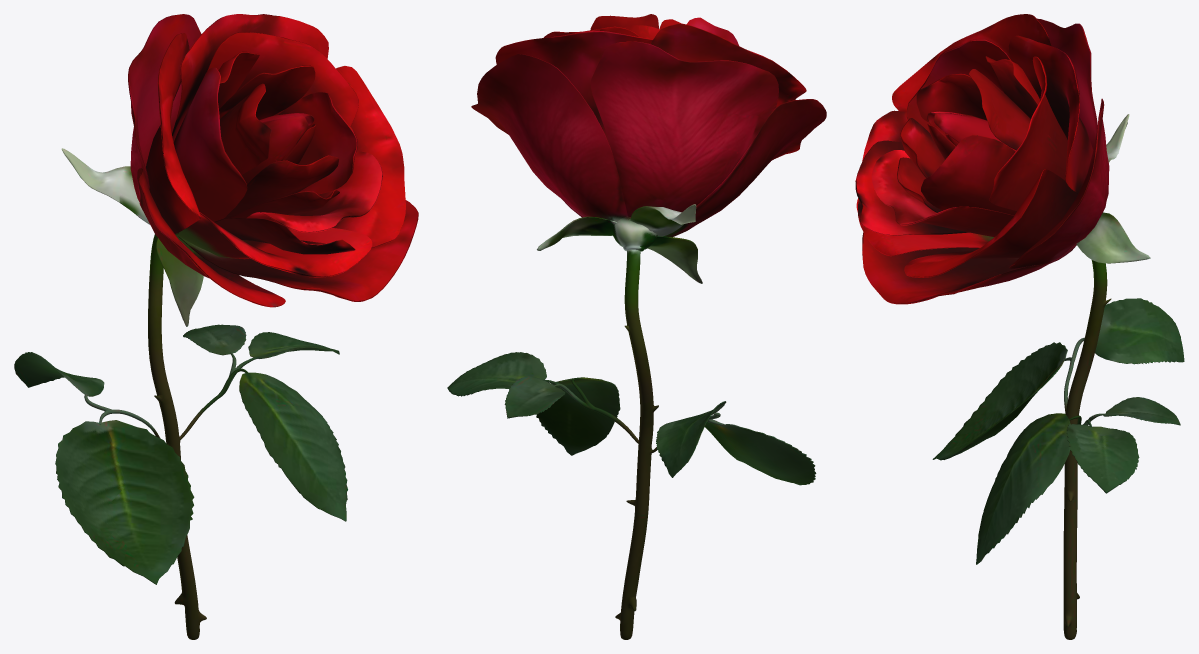
The model's file is rose.glb.
3 views of the same model, side by side, from view 1: azimuth 30°, elevation 25°; view 2: azimuth 150°, elevation 25°; view 3: azimuth 270°, elevation 25° (orthographic). The views are drawn at different scales.
Parts seen in each view (by area): view 1: node_id30_1; view 2: node_id30_1; view 3: node_id30_1.
Part boxes in pixels (bbox=[...]): node_id30_1: bbox=[14, 14, 418, 639]; node_id30_1: bbox=[447, 14, 826, 639]; node_id30_1: bbox=[855, 14, 1184, 639].
Bounding box in the file's own units: 0.5542 × 1 × 0.4921.
1 material, 1 textured.
